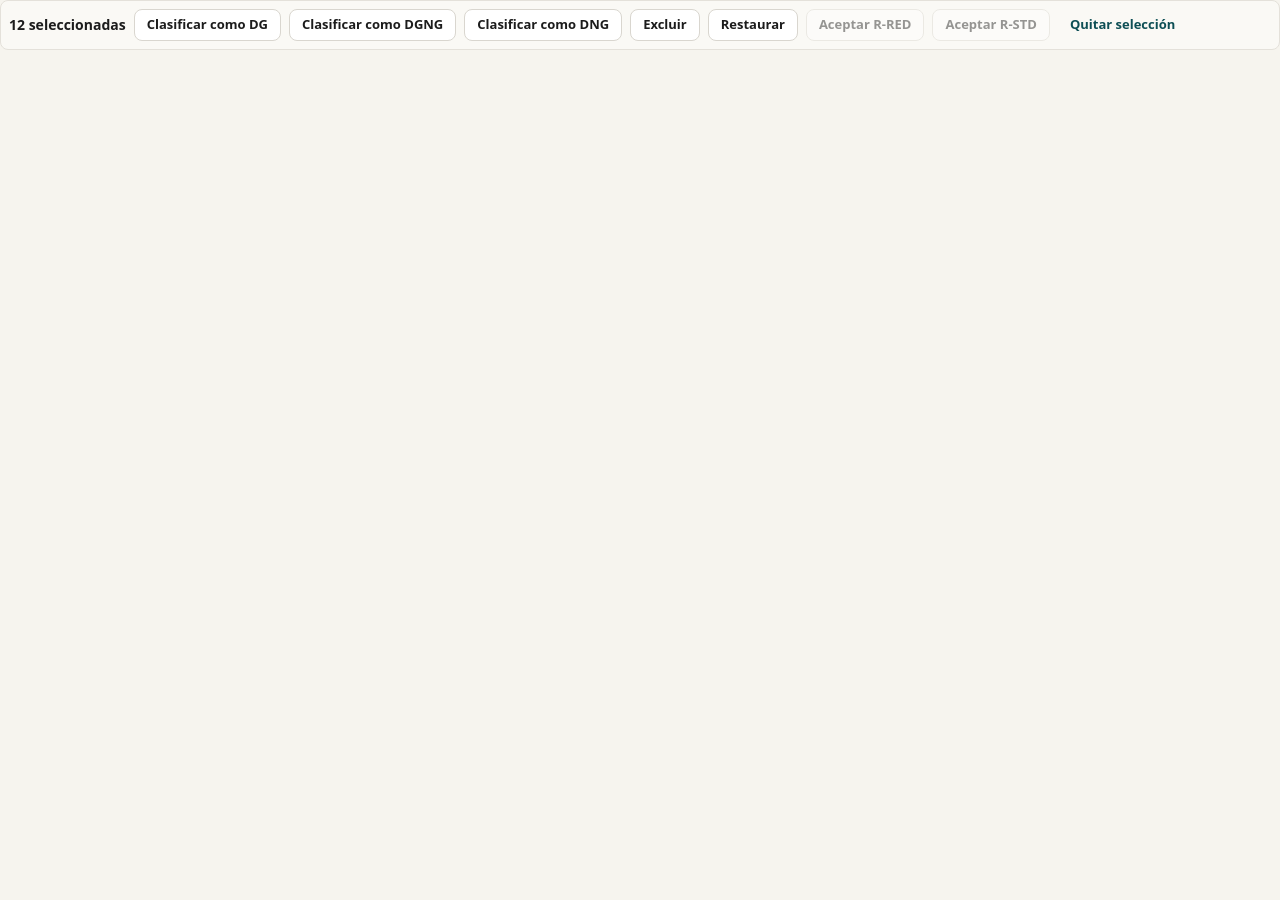
BarraMasiva · clasificar en masa (CA-7) › una sola petición con el versionBase de las 12; informe con 8 aplicadas y 4 rechazadas con su motivo; las obsoletas se recargan
The width and height of the screenshot is (1280, 900).
Click the button "Clasificar como DNG" at (543, 25), box top-left (464, 9), bottom-right (622, 41)
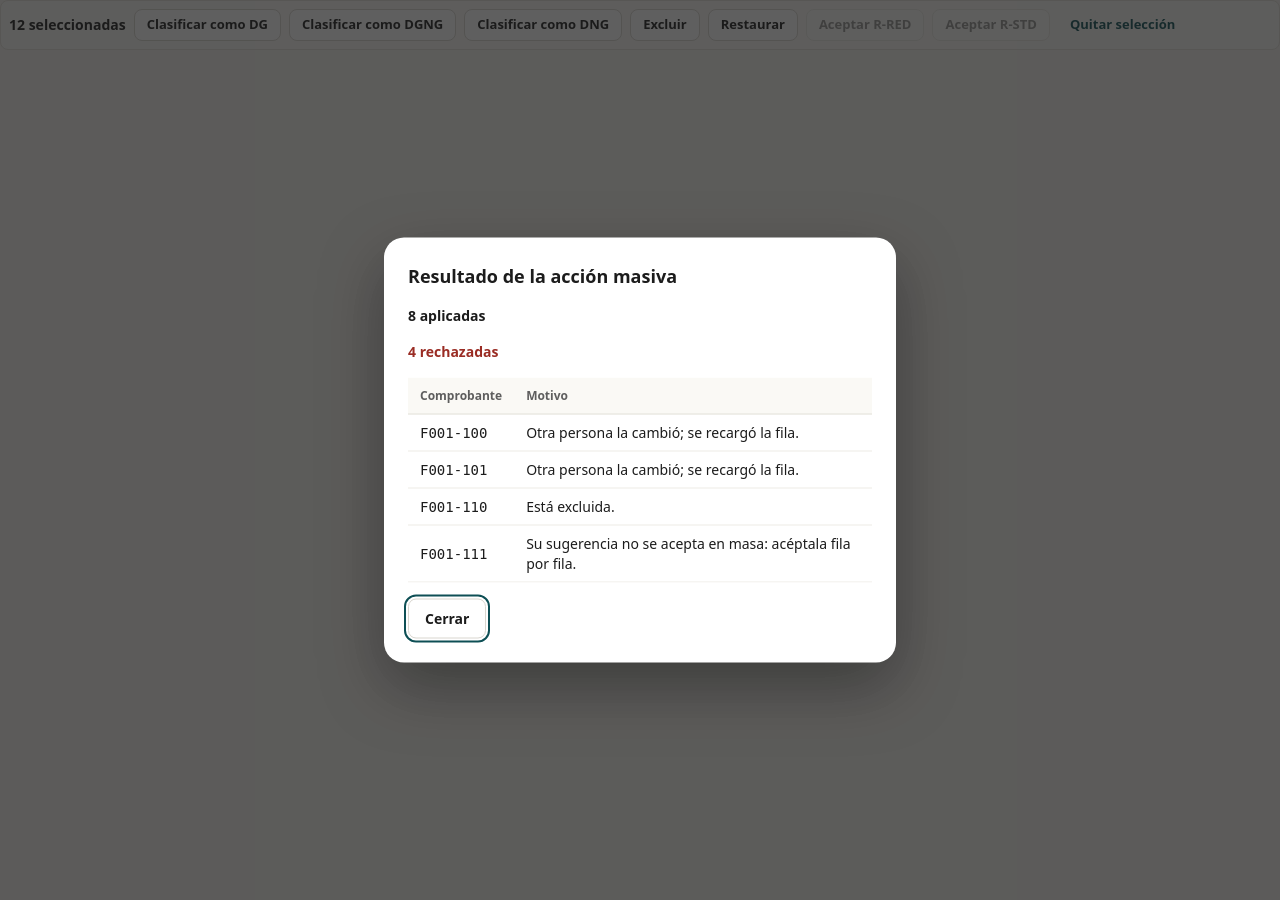
Result: the text "8 aplicadas" is shown at top-left (408, 306), bottom-right (485, 324)
